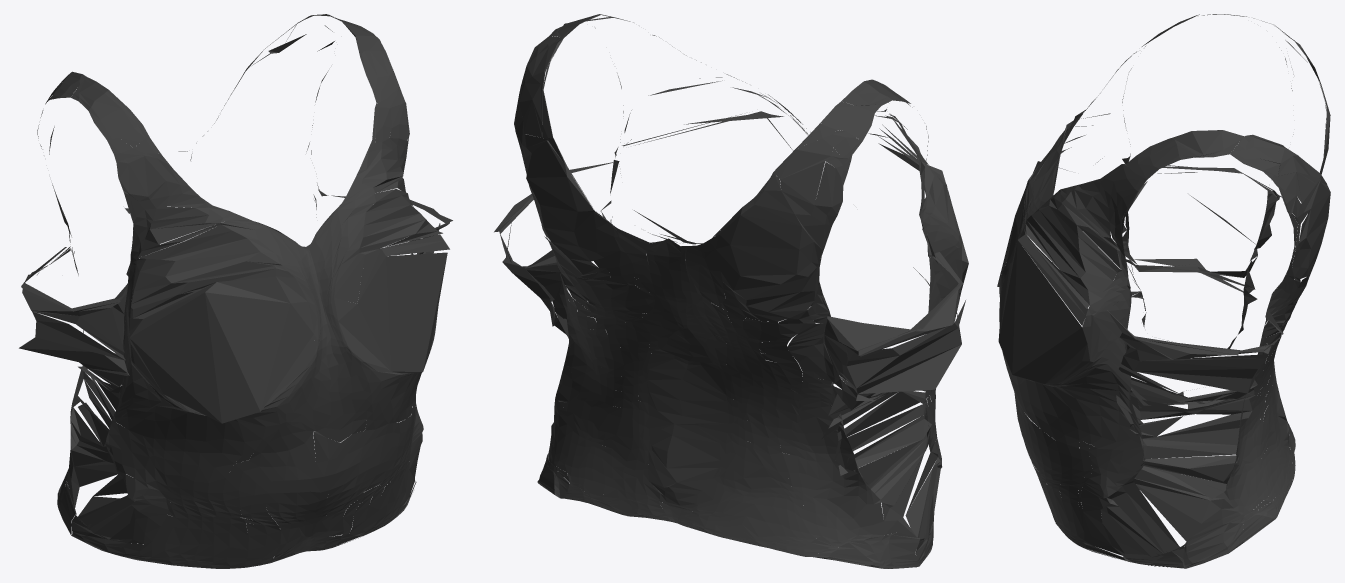
File: cc_camisole_top.glb
3 views of the same model, side by side, from view 1: azimuth 30°, elevation 25°; view 2: azimuth 150°, elevation 25°; view 3: azimuth 270°, elevation 25° (orthographic). The views are drawn at different scales.
Parts seen in each view (by area): view 1: geometry_0; view 2: geometry_0; view 3: geometry_0.
Part boxes in pixels (x1,y1,x2,y2): geometry_0: (19,14,452,568); geometry_0: (494,14,968,568); geometry_0: (997,14,1330,568).
Bounding box in the file's own units: 0.2531 × 0.2657 × 0.1878.
Materials: 1 (1 with a texture image).
